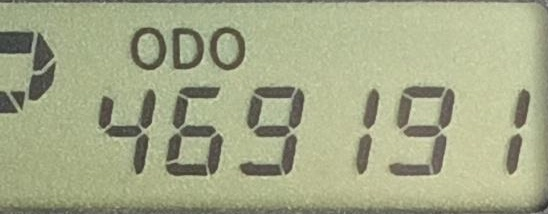1: (349, 85, 381, 177), (502, 86, 533, 177)
4: (96, 88, 157, 177)
6: (163, 85, 225, 179)
9: (385, 84, 456, 179), (236, 84, 306, 180)
X: (0, 28, 58, 118), (207, 26, 245, 71), (129, 26, 167, 70), (171, 26, 204, 70)
